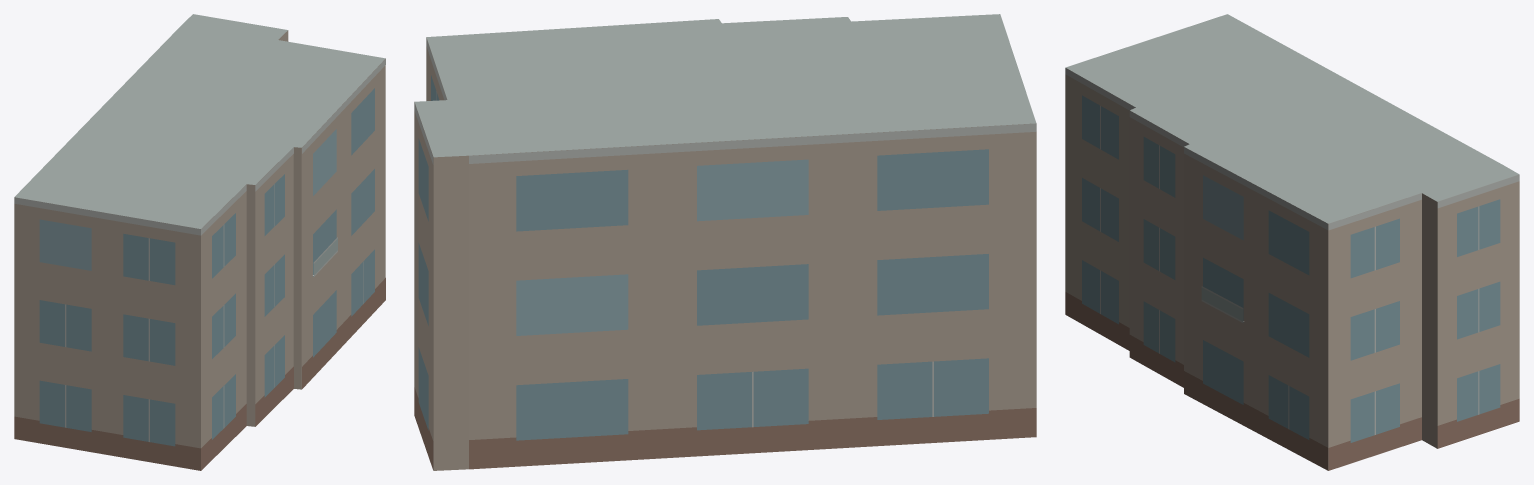
The model's file is survey-upis-32690957.glb.
3 views of the same model, side by side, from view 1: azimuth 30°, elevation 25°; view 2: azimuth 150°, elevation 25°; view 3: azimuth 270°, elevation 25° (orthographic). The views are drawn at different scales.
Visible parts, largest first — view 1: survey-upis-32690957.tmp; view 2: survey-upis-32690957.tmp; view 3: survey-upis-32690957.tmp.
Part boxes in pixels (bbox=[...]): survey-upis-32690957.tmp: bbox=[14, 14, 385, 470]; survey-upis-32690957.tmp: bbox=[414, 14, 1036, 470]; survey-upis-32690957.tmp: bbox=[1065, 14, 1519, 470].
Bounding box in the file's own units: 16.59 × 9.1 × 15.18.
